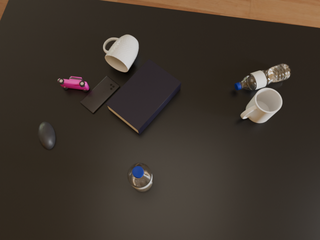book: (106, 59, 181, 135)
bottle: (235, 63, 291, 90), (128, 163, 153, 192)
cup: (241, 88, 282, 123), (103, 35, 138, 72)
mouse: (38, 122, 55, 149)
phone: (80, 76, 120, 113)
toy_car: (58, 76, 89, 92)
